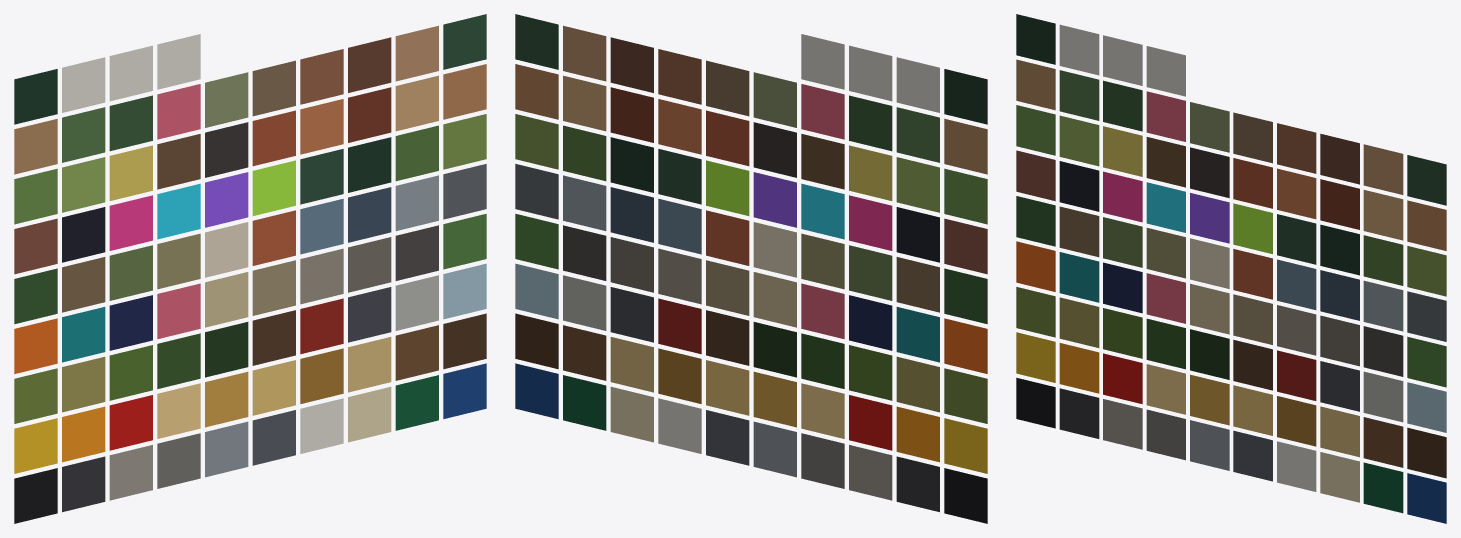
The model's file is calib_swatch.glb.
The picture shows the model from 3 angles, left to right: view 1: azimuth 30°, elevation 25°; view 2: azimuth 150°, elevation 25°; view 3: azimuth 330°, elevation 25°; orthographic projection. The views are drawn at different scales.
Visible parts, largest first — view 1: calib_swatch2; view 2: calib_swatch2; view 3: calib_swatch2.
Part boxes in pixels (box(x1,y1,x2,y2)): calib_swatch2: box(14, 14, 486, 523); calib_swatch2: box(515, 14, 987, 523); calib_swatch2: box(1016, 14, 1446, 523).
Bounding box in the file's own units: 10.9 × 9.8 × 0.
